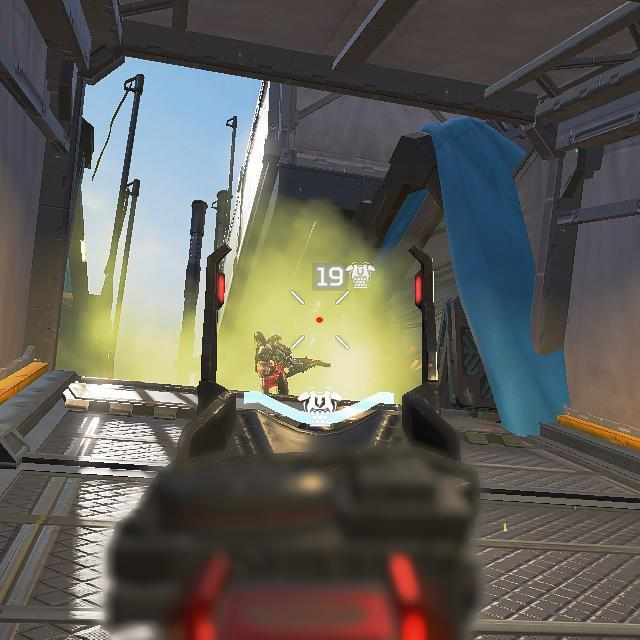avatar: (253, 330, 298, 395)
